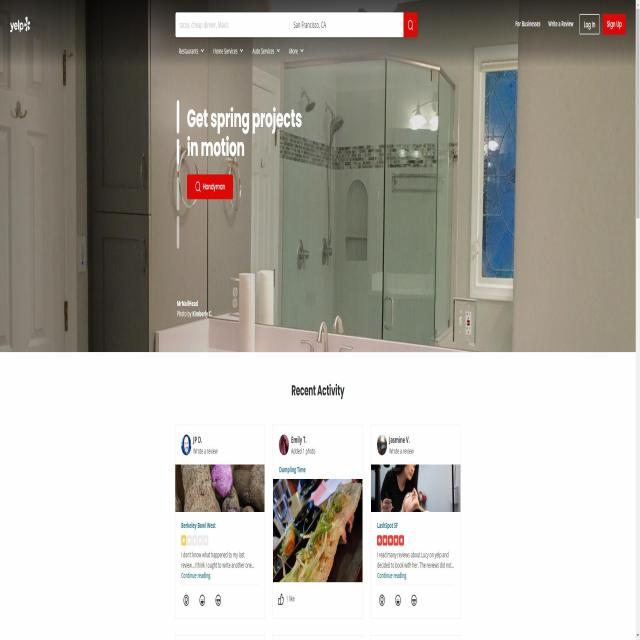button: (578, 12, 600, 38), (603, 11, 626, 35)
select: (211, 43, 244, 58), (177, 43, 206, 59), (251, 44, 281, 57), (288, 45, 306, 57)
